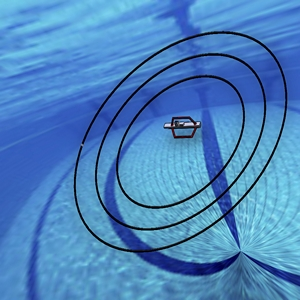circle: (56, 26, 300, 257)
submarine: (158, 106, 210, 151)
